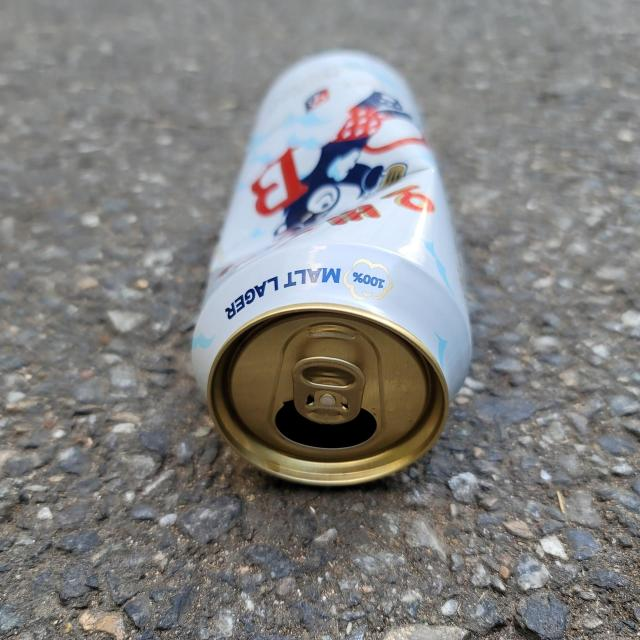can: (191, 50, 472, 486)
